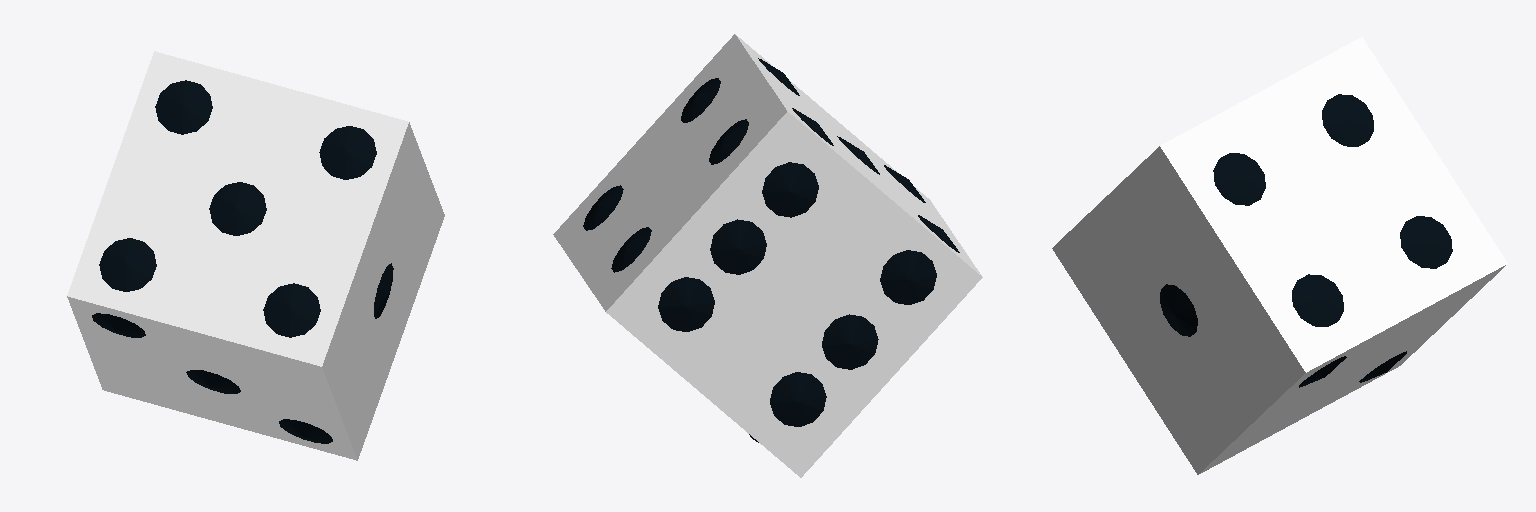
The picture shows the model from 3 angles: view 1: azimuth 30°, elevation 25°; view 2: azimuth 150°, elevation 25°; view 3: azimuth 270°, elevation 25°; orthographic projection.
Parts seen in each view (by area): view 1: group[number redacted], group[number redacted], group[number redacted], group[number redacted], group[number redacted], group[number redacted], group[number redacted], group[number redacted], group[number redacted], group[number redacted]; view 2: group[number redacted], group[number redacted], group[number redacted], group[number redacted], group[number redacted], group[number redacted], group[number redacted], group[number redacted], group[number redacted], group[number redacted], group[number redacted]; view 3: group[number redacted], group[number redacted], group[number redacted], group[number redacted], group[number redacted], group[number redacted].
Boxes of the visible parts, x1,y1,x2,y2 form: group[number redacted]: [67, 51, 444, 460]; group[number redacted]: [209, 182, 266, 235]; group[number redacted]: [99, 238, 156, 291]; group[number redacted]: [155, 80, 212, 134]; group[number redacted]: [319, 126, 376, 179]; group[number redacted]: [263, 283, 320, 337]; group[number redacted]: [279, 419, 332, 443]; group[number redacted]: [92, 313, 145, 337]; group[number redacted]: [186, 370, 240, 393]; group[number redacted]: [374, 263, 393, 318]; group[number redacted]: [553, 34, 982, 477]; group[number redacted]: [762, 162, 818, 217]; group[number redacted]: [710, 219, 766, 274]; group[number redacted]: [822, 314, 878, 369]; group[number redacted]: [658, 277, 714, 331]; group[number redacted]: [770, 372, 826, 426]; group[number redacted]: [880, 250, 936, 304]; group[number redacted]: [611, 227, 651, 272]; group[number redacted]: [681, 78, 720, 122]; group[number redacted]: [583, 185, 623, 230]; group[number redacted]: [709, 119, 748, 164]; group[number redacted]: [1052, 37, 1507, 474]; group[number redacted]: [1400, 216, 1452, 268]; group[number redacted]: [1292, 274, 1343, 326]; group[number redacted]: [1322, 94, 1373, 146]; group[number redacted]: [1213, 153, 1265, 205]; group[number redacted]: [1160, 284, 1197, 336].
Size of the model in its own units: 0.4802 by 0.4309 by 0.47.